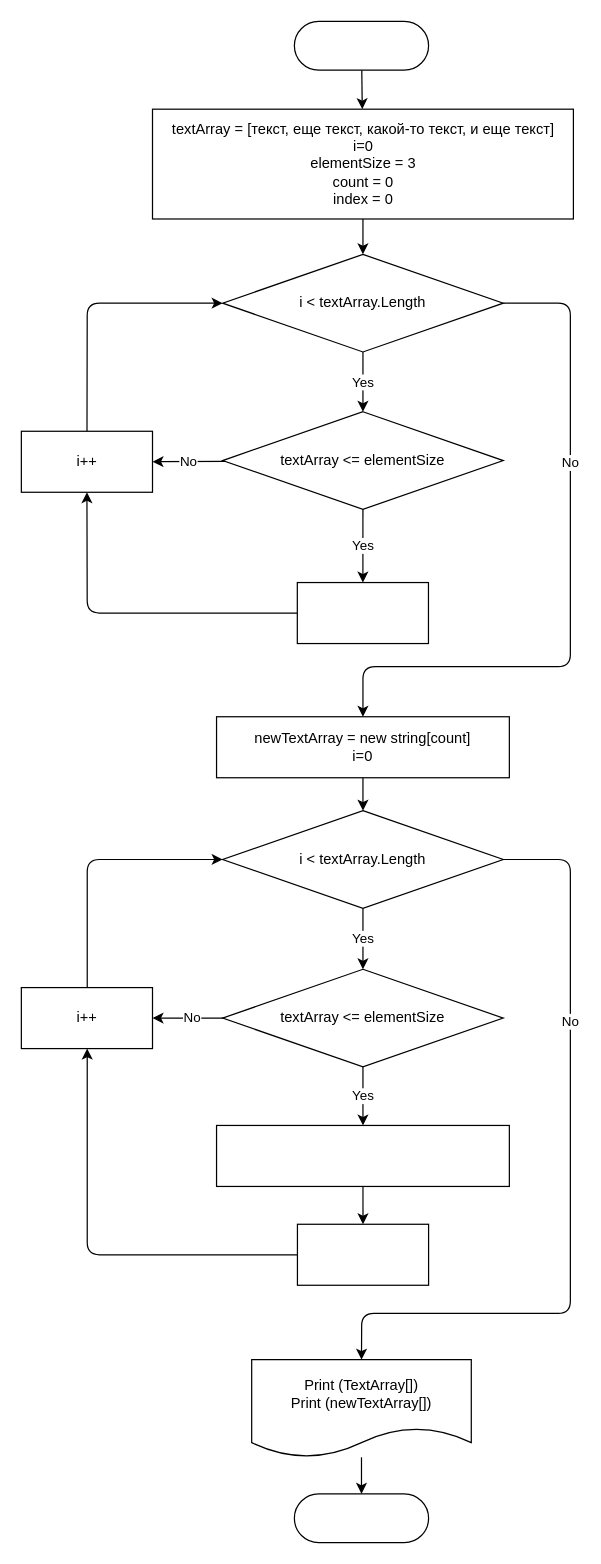
This 601x1564 diagram has some shape labels left out. Here are the shapes that lost their labels. From the top down, the box of each, then its label:
(293, 20, 429, 70): Start
(296, 581, 428, 644): count++
(215, 1124, 509, 1186): newTextArray[index] = textArray[i]
(296, 1223, 429, 1285): index++
(293, 1493, 429, 1543): End
